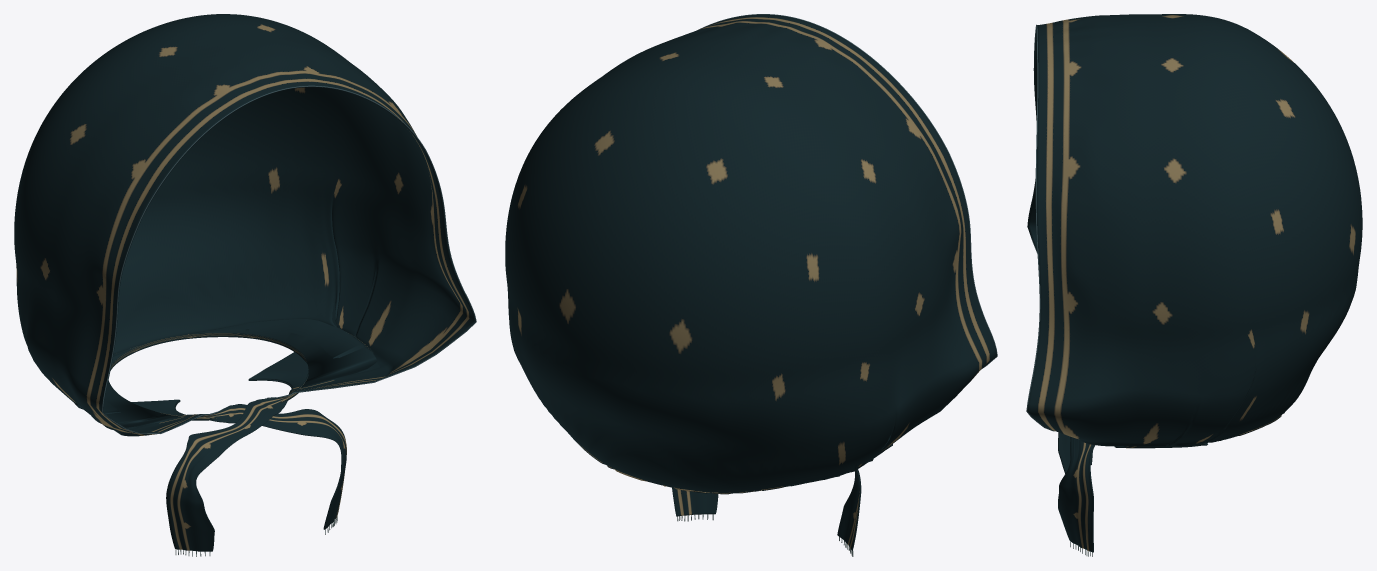
File: Feminine-Feminine-straight-jersey-pashmina250-headgear-78373d4b.glb
3 renders of one model, left to right at view 1: azimuth 30°, elevation 25°; view 2: azimuth 150°, elevation 25°; view 3: azimuth 270°, elevation 25°, orthographic. The views are drawn at different scales.
Parts seen in each view (by area): view 1: 226 headgear / Headwear / continuous woven pashmina239, 226 headgear / Headwear / face edge239; view 2: 226 headgear / Headwear / continuous woven pashmina239, 226 headgear / Headwear / face edge239; view 3: 226 headgear / Headwear / continuous woven pashmina239, 226 headgear / Headwear / face edge239.
Part boxes in pixels (x1=…): 226 headgear / Headwear / continuous woven pashmina239: x1=14, y1=14, x2=475, y2=551; 226 headgear / Headwear / face edge239: x1=102, y1=85, x2=476, y2=433; 226 headgear / Headwear / continuous woven pashmina239: x1=505, y1=14, x2=996, y2=550; 226 headgear / Headwear / face edge239: x1=698, y1=14, x2=997, y2=368; 226 headgear / Headwear / continuous woven pashmina239: x1=1027, y1=14, x2=1362, y2=552; 226 headgear / Headwear / face edge239: x1=1026, y1=24, x2=1054, y2=431.
Size of the model in its own units: 1.16 by 1.41 by 0.8881.
3 materials, 1 textured.
